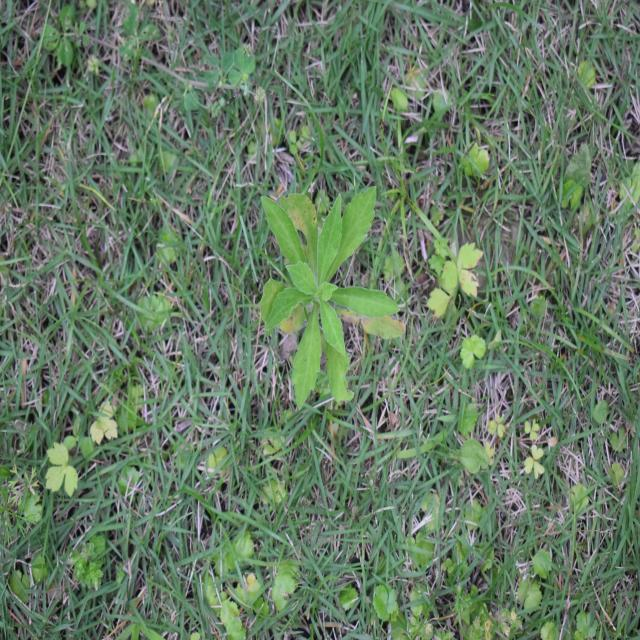horseweed: (247, 162, 401, 398)
